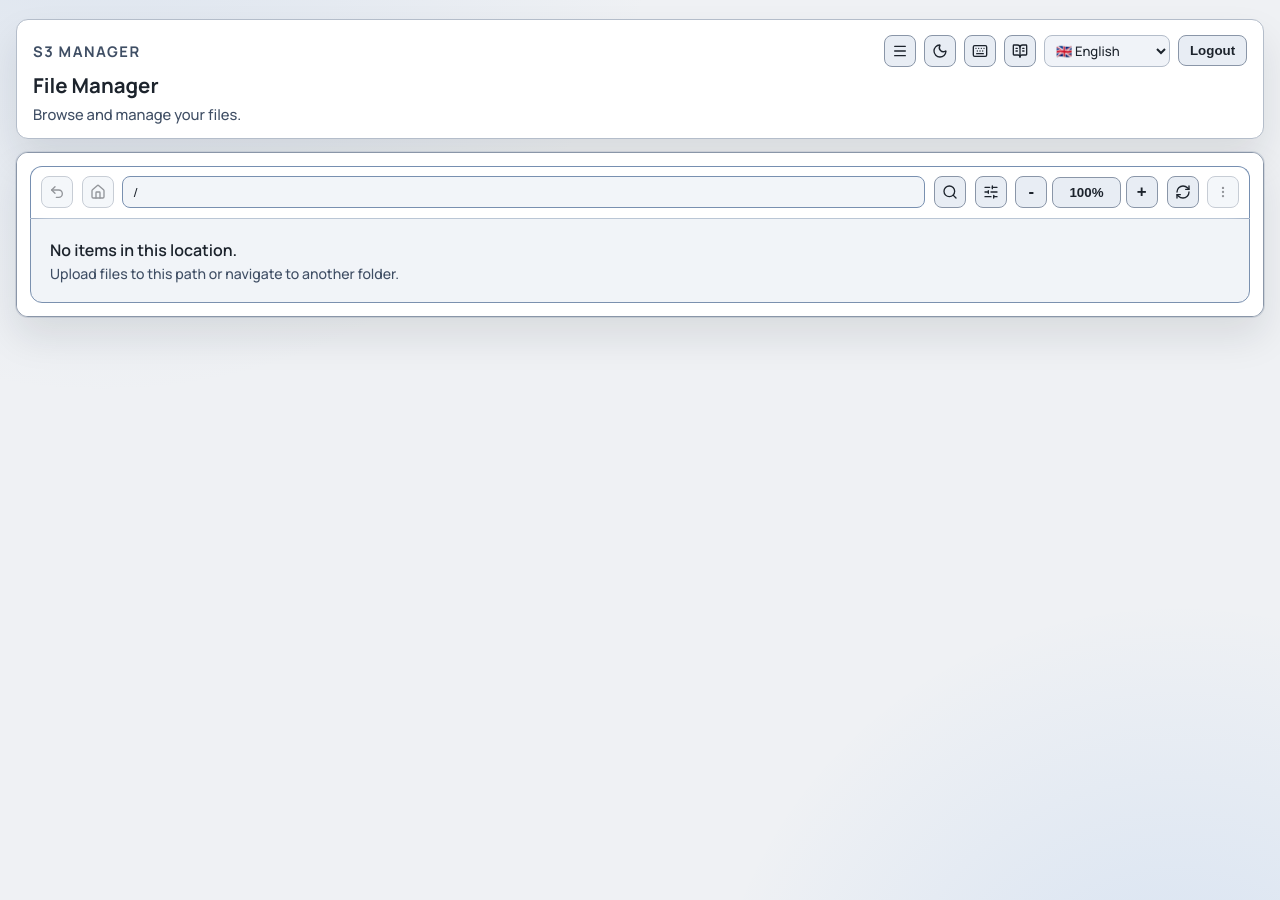
Test: App routes › shows active elevation source details in session panel
Click the button named "Show session panel". click: (900,51)
box: [884,35,916,67]
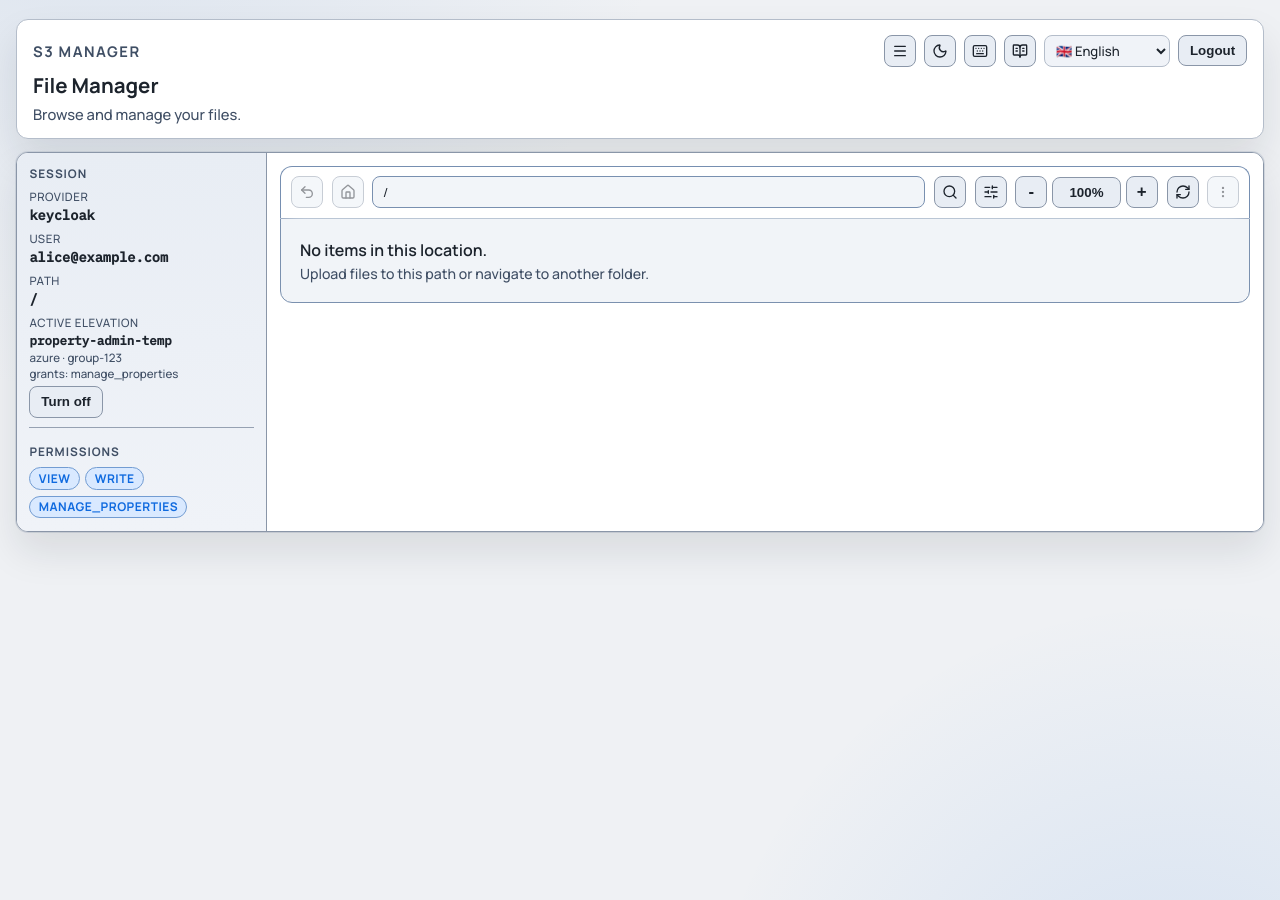
Check: the text "Active Elevation" is shown, box [30,315,138,330]
Check: the text "property-admin-temp" is shown, box [30,332,172,348]
Check: the text "azure · group-123" is shown, box [30,350,122,365]
